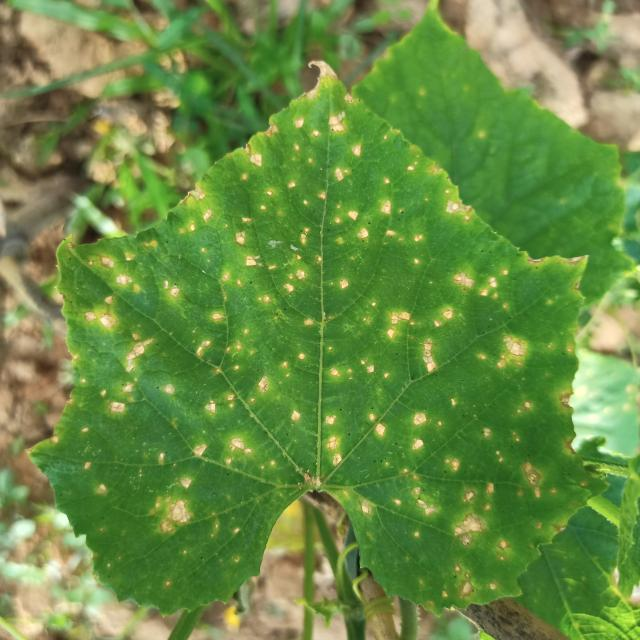disease_cucumber: (90, 106, 542, 377), (66, 284, 354, 553), (325, 309, 579, 600)
